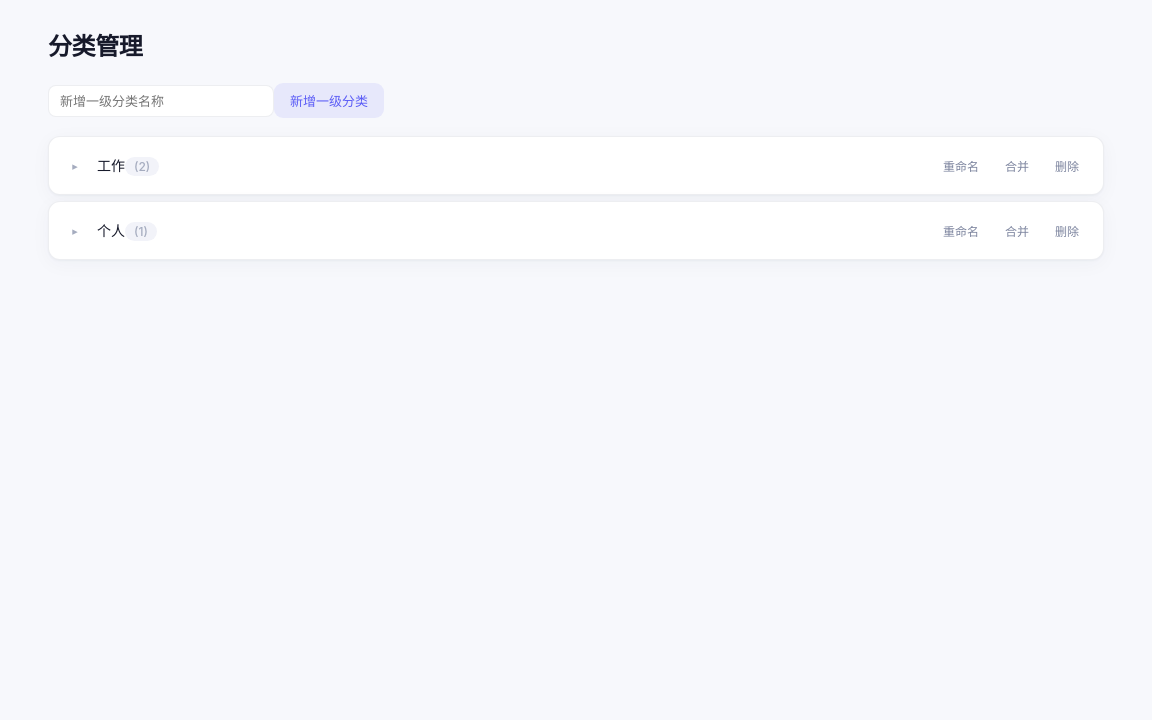
Test: CategoryManager › opens delete dialog
Expected: the text "工作" is shown, x1=97 y1=157 x2=125 y2=174
Click the button "删除" in the row of "工作": (1067, 166) x1=1045 y1=153 x2=1089 y2=178
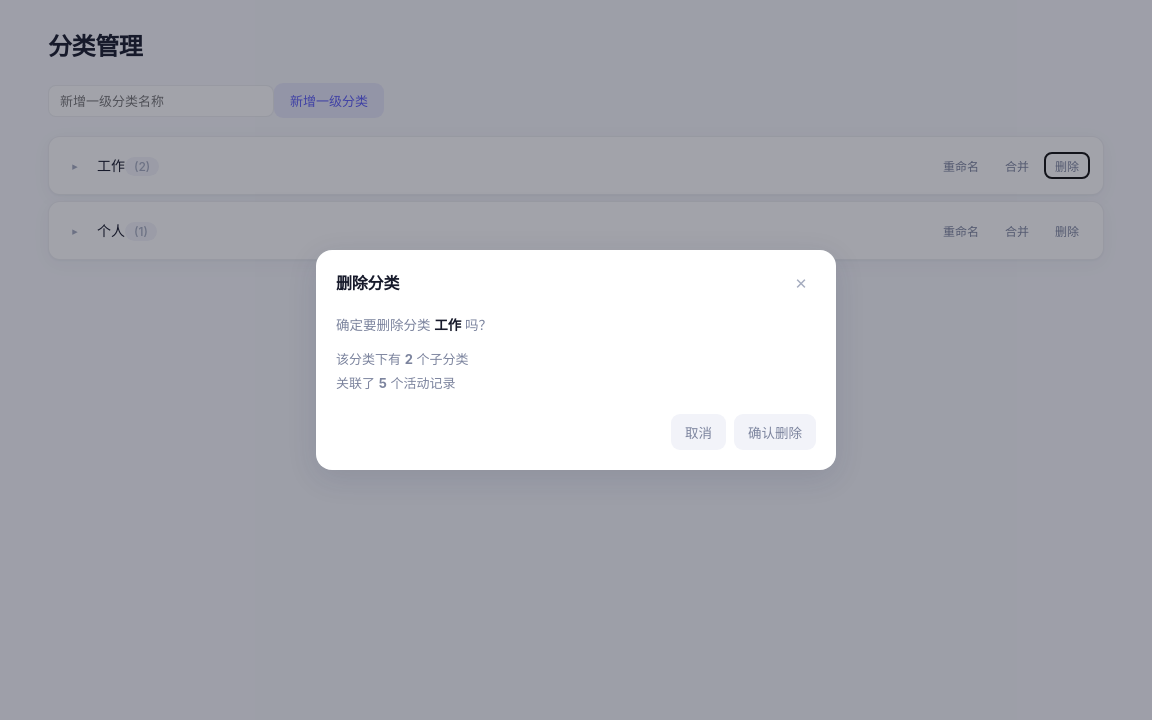
Now the dialog "删除分类" is shown
